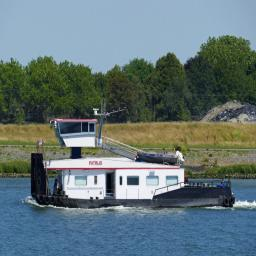tugboat: (30, 98, 238, 215)
